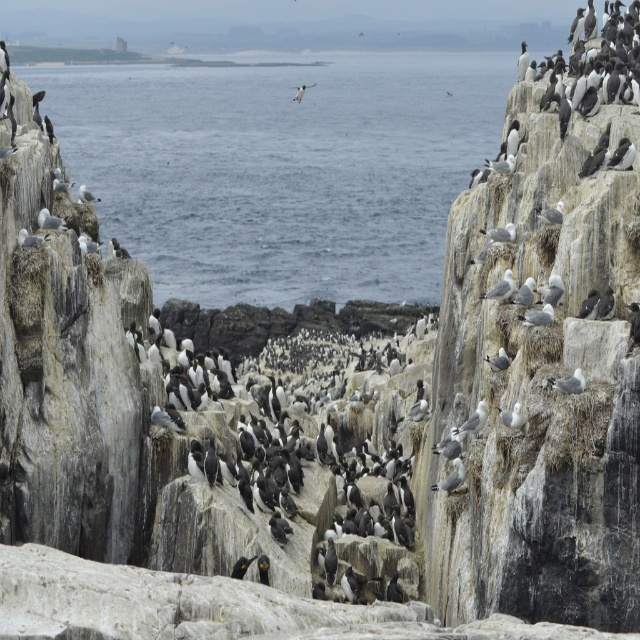Penguin: (267, 333, 369, 384), (577, 86, 604, 125), (273, 376, 294, 423), (606, 138, 636, 169), (537, 76, 560, 111), (233, 462, 250, 508), (202, 441, 217, 492), (240, 358, 264, 389), (275, 423, 299, 454), (252, 480, 272, 517), (504, 115, 520, 161), (203, 363, 222, 399), (174, 377, 196, 407), (378, 448, 398, 480), (341, 561, 356, 603), (325, 542, 338, 590), (569, 11, 586, 47), (577, 291, 602, 315), (0, 74, 13, 120), (583, 0, 599, 37), (602, 66, 619, 100), (595, 293, 618, 318), (284, 456, 298, 496), (371, 511, 388, 543), (164, 383, 182, 413), (267, 516, 285, 546), (0, 41, 12, 85), (232, 557, 261, 575), (264, 376, 276, 419), (6, 100, 16, 151), (560, 97, 573, 136), (236, 433, 256, 458), (572, 71, 586, 106), (402, 479, 413, 523), (589, 141, 606, 168), (318, 423, 329, 464), (554, 47, 569, 76), (274, 458, 288, 489), (390, 572, 404, 603), (392, 516, 406, 546), (332, 437, 343, 474), (146, 338, 160, 367), (518, 42, 528, 82), (189, 442, 200, 478), (384, 486, 397, 516), (42, 114, 54, 146), (134, 327, 146, 359), (239, 432, 255, 456), (360, 443, 376, 467), (222, 357, 236, 384), (290, 392, 308, 413), (179, 333, 194, 358), (596, 121, 612, 144), (345, 483, 359, 509), (124, 315, 135, 348), (108, 241, 128, 259), (346, 515, 358, 545), (179, 349, 197, 368), (537, 57, 554, 77), (163, 323, 176, 349), (579, 152, 592, 178), (274, 514, 292, 532), (279, 490, 291, 516), (583, 62, 600, 80), (398, 461, 410, 486), (587, 45, 602, 65), (258, 421, 272, 442), (468, 169, 482, 190), (359, 516, 375, 534), (246, 410, 259, 432), (368, 503, 382, 523), (629, 79, 640, 104), (613, 40, 627, 59), (365, 437, 376, 461), (613, 0, 625, 22), (324, 523, 338, 541), (343, 464, 357, 482), (600, 0, 610, 25), (200, 354, 212, 374), (617, 79, 629, 99), (627, 0, 640, 18), (259, 556, 266, 589), (148, 315, 158, 337), (196, 387, 207, 407), (632, 22, 639, 51), (337, 519, 348, 537), (416, 381, 425, 402), (527, 65, 537, 80), (263, 442, 271, 459), (359, 456, 367, 471), (275, 430, 284, 443), (244, 419, 249, 442), (218, 347, 223, 369), (548, 100, 557, 110), (276, 416, 287, 422)
